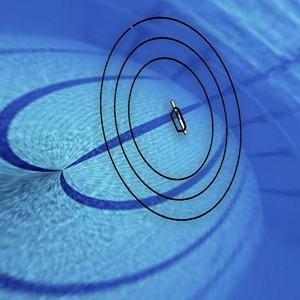circle: (96, 9, 249, 220)
submarine: (159, 95, 193, 143)
